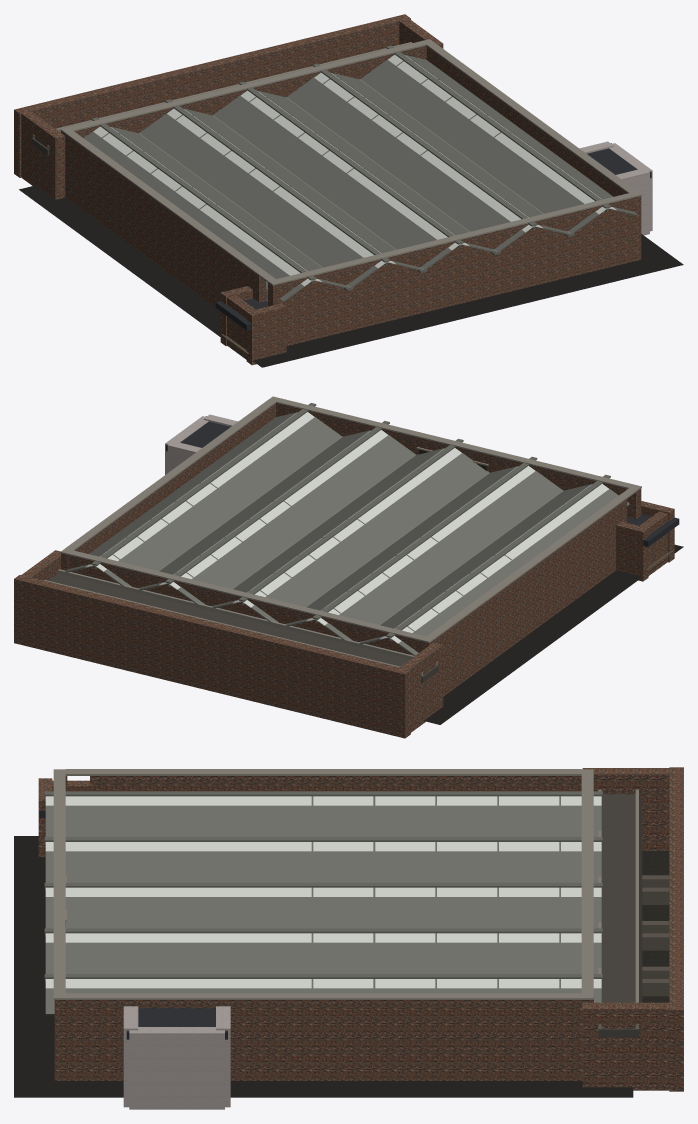
Rendered from domino-station.glb.
3 renders of one model, top to bottom at view 1: azimuth 30°, elevation 25°; view 2: azimuth 150°, elevation 25°; view 3: azimuth 270°, elevation 25°, orthographic. The views are drawn at different scales.
Visible parts, largest first — view 1: bake:brick_wall_001:brick:#7c6a58, bake:plain:plain:#6e6f68:0.70:0.00:None, bake:plain:plain:#cfd2cb:0.35:0.00:None, bake:plain:plain:#211f1c:1.00:0.00:None, bake:plain:plain:#8b857a:1.00:0.00:None, bake:plain:plain:#6b6c63:1.00:0.00:None, bake:painted_plaster_wall:render:#b3a894, bake:plain:plain:#2c2f33:1.00:0.00:None; view 2: bake:brick_wall_001:brick:#7c6a58, bake:plain:plain:#6e6f68:0.70:0.00:None, bake:plain:plain:#cfd2cb:0.35:0.00:None, bake:plain:plain:#8b857a:1.00:0.00:None, bake:plain:plain:#6b6c63:1.00:0.00:None, bake:plain:plain:#211f1c:1.00:0.00:None, bake:plain:plain:#4a4640:1.00:0.00:None, bake:plain:plain:#2c2f33:1.00:0.00:None, bake:painted_plaster_wall:render:#b3a894; view 3: bake:plain:plain:#6e6f68:0.70:0.00:None, bake:brick_wall_001:brick:#7c6a58, bake:plain:plain:#cfd2cb:0.35:0.00:None, bake:plain:plain:#211f1c:1.00:0.00:None, bake:plain:plain:#6b6c63:1.00:0.00:None, bake:plain:plain:#8b857a:1.00:0.00:None, bake:painted_plaster_wall:render:#b3a894, bake:plain:plain:#4a4640:1.00:0.00:None, bake:plain:plain:#5b544b:1.00:0.00:None, bake:gravel_stones:ballast, bake:plain:plain:#2c2f33:1.00:0.00:None, bake:plain:plain:#38342f:1.00:0.00:None.
Boxes of the visible parts, x1=… form: bake:brick_wall_001:brick:#7c6a58: x1=14, y1=14, x2=641, y2=365; bake:plain:plain:#6e6f68:0.70:0.00:None: x1=84, y1=55, x2=637, y2=301; bake:plain:plain:#cfd2cb:0.35:0.00:None: x1=92, y1=49, x2=616, y2=286; bake:plain:plain:#211f1c:1.00:0.00:None: x1=19, y1=185, x2=683, y2=367; bake:plain:plain:#8b857a:1.00:0.00:None: x1=32, y1=39, x2=641, y2=297; bake:plain:plain:#6b6c63:1.00:0.00:None: x1=91, y1=45, x2=631, y2=291; bake:painted_plaster_wall:render:#b3a894: x1=266, y1=141, x2=652, y2=299; bake:plain:plain:#2c2f33:1.00:0.00:None: x1=215, y1=143, x2=651, y2=330; bake:brick_wall_001:brick:#7c6a58: x1=14, y1=403, x2=674, y2=738; bake:plain:plain:#6e6f68:0.70:0.00:None: x1=65, y1=412, x2=629, y2=655; bake:plain:plain:#cfd2cb:0.35:0.00:None: x1=85, y1=406, x2=609, y2=643; bake:plain:plain:#8b857a:1.00:0.00:None: x1=44, y1=396, x2=641, y2=676; bake:plain:plain:#6b6c63:1.00:0.00:None: x1=71, y1=403, x2=610, y2=643; bake:plain:plain:#211f1c:1.00:0.00:None: x1=424, y1=544, x2=683, y2=724; bake:plain:plain:#4a4640:1.00:0.00:None: x1=48, y1=574, x2=438, y2=682; bake:plain:plain:#2c2f33:1.00:0.00:None: x1=166, y1=416, x2=679, y2=546; bake:painted_plaster_wall:render:#b3a894: x1=165, y1=414, x2=237, y2=474; bake:plain:plain:#6e6f68:0.70:0.00:None: x1=45, y1=805, x2=601, y2=1015; bake:brick_wall_001:brick:#7c6a58: x1=38, y1=767, x2=683, y2=1091; bake:plain:plain:#cfd2cb:0.35:0.00:None: x1=45, y1=796, x2=601, y2=988; bake:plain:plain:#211f1c:1.00:0.00:None: x1=14, y1=836, x2=633, y2=1097; bake:plain:plain:#6b6c63:1.00:0.00:None: x1=44, y1=791, x2=602, y2=988; bake:plain:plain:#8b857a:1.00:0.00:None: x1=53, y1=769, x2=638, y2=1028; bake:painted_plaster_wall:render:#b3a894: x1=123, y1=1006, x2=230, y2=1109; bake:plain:plain:#4a4640:1.00:0.00:None: x1=598, y1=794, x2=638, y2=1037; bake:plain:plain:#5b544b:1.00:0.00:None: x1=642, y1=875, x2=669, y2=996; bake:gravel_stones:ballast: x1=642, y1=851, x2=669, y2=1002; bake:plain:plain:#2c2f33:1.00:0.00:None: x1=39, y1=810, x2=227, y2=1039; bake:plain:plain:#38342f:1.00:0.00:None: x1=639, y1=798, x2=642, y2=1002.
Bounding box in the file's own units: 115 × 17.44 × 119.
Materials: 52 (14 with a texture image).
